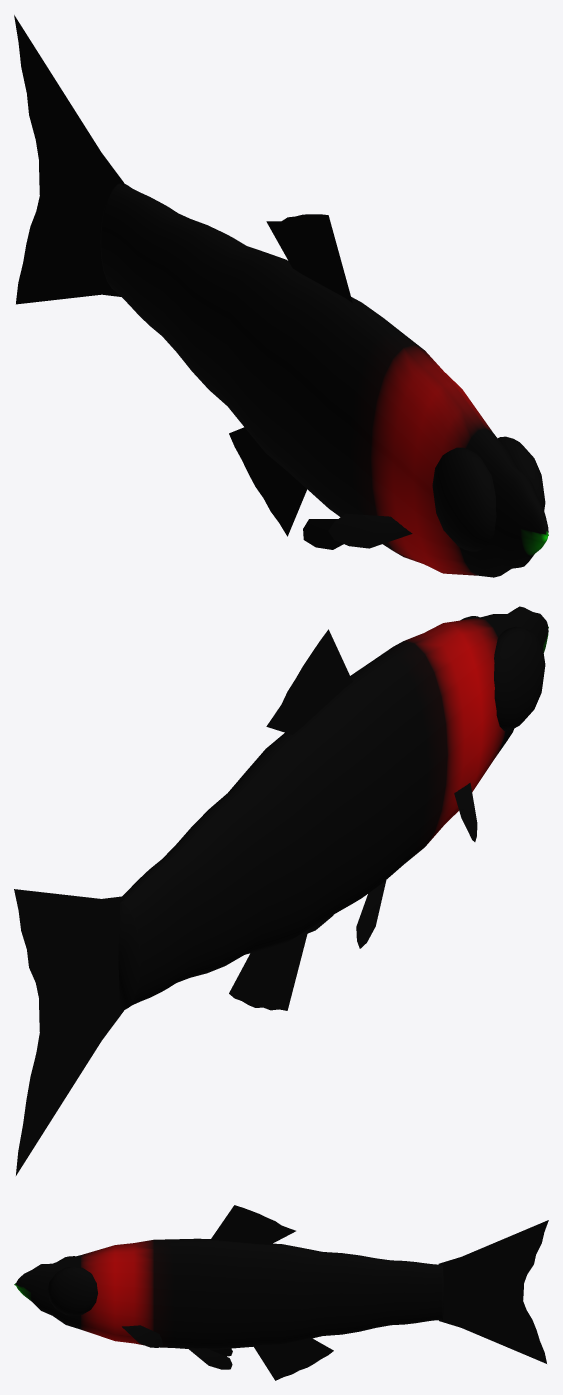
Rendered from celestial-pearl-danio.glb.
3 views of the same model, one above another, from view 1: azimuth 30°, elevation 25°; view 2: azimuth 150°, elevation 25°; view 3: azimuth 270°, elevation 25° (orthographic). The views are drawn at different scales.
Parts seen in each view (by area): view 1: cpd_body, cpd_caudal, cpd_eyeL, cpd_dorsal, cpd_anal, cpd_pectoralL, cpd_eyeR, cpd_pelvicL; view 2: cpd_body, cpd_caudal, cpd_eyeL, cpd_dorsal, cpd_anal, cpd_pelvicL, cpd_pectoralL; view 3: cpd_body, cpd_caudal, cpd_dorsal, cpd_eyeR, cpd_anal, cpd_pectoralR, cpd_pelvicR.
Boxes of the visible parts, x1=… form: cpd_body: x1=100, y1=183, x2=548, y2=577; cpd_caudal: x1=14, y1=15, x2=124, y2=304; cpd_eyeL: x1=432, y1=447, x2=496, y2=551; cpd_dorsal: x1=266, y1=214, x2=352, y2=302; cpd_anal: x1=229, y1=427, x2=307, y2=536; cpd_pectoralL: x1=328, y1=513, x2=412, y2=548; cpd_eyeR: x1=498, y1=436, x2=545, y2=510; cpd_pelvicL: x1=303, y1=519, x2=343, y2=549; cpd_body: x1=118, y1=606, x2=548, y2=1010; cpd_caudal: x1=14, y1=889, x2=124, y2=1175; cpd_eyeL: x1=494, y1=626, x2=545, y2=730; cpd_dorsal: x1=266, y1=629, x2=352, y2=734; cpd_anal: x1=229, y1=929, x2=308, y2=1010; cpd_pelvicL: x1=356, y1=880, x2=386, y2=948; cpd_pectoralL: x1=454, y1=782, x2=477, y2=841; cpd_body: x1=14, y1=1238, x2=444, y2=1349; cpd_caudal: x1=438, y1=1220, x2=548, y2=1363; cpd_dorsal: x1=210, y1=1205, x2=295, y2=1244; cpd_eyeR: x1=47, y1=1267, x2=97, y2=1315; cpd_anal: x1=254, y1=1338, x2=333, y2=1380; cpd_pectoralR: x1=122, y1=1325, x2=162, y2=1347; cpd_pelvicR: x1=187, y1=1348, x2=232, y2=1369.
Bounding box in the file's own units: 0.1939 × 0.4526 × 1.25.
